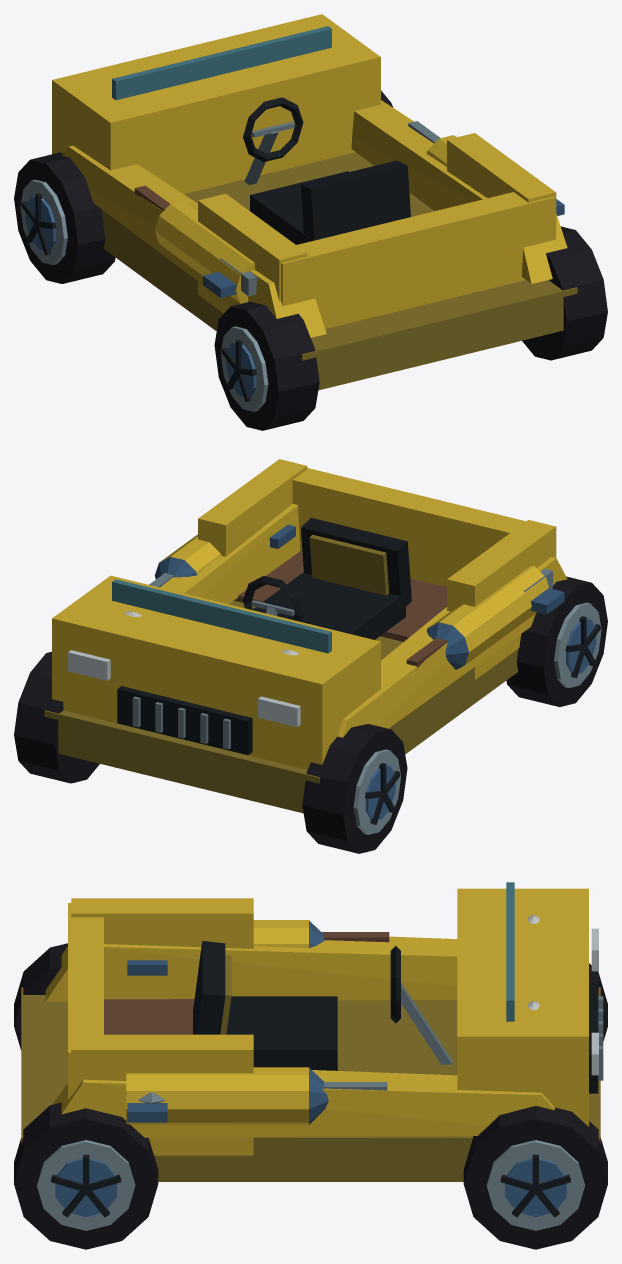
The model's file is kart.glb.
3 renders of one model, top to bottom at view 1: azimuth 30°, elevation 25°; view 2: azimuth 150°, elevation 25°; view 3: azimuth 270°, elevation 25°, orthographic. The views are drawn at different scales.
Visible parts, largest first — view 1: identity-truck-truck-utility-body, identity-truck-driver-cockpit, wheel-rear-left, wheel-front-left, wheel-rear-right, identity-truck-motif-rocket, identity-truck-motif-tools; view 2: identity-truck-truck-utility-body, identity-truck-driver-cockpit, wheel-front-left, wheel-rear-left, identity-truck-motif-rocket, wheel-front-right, identity-truck-motif-tools; view 3: identity-truck-truck-utility-body, wheel-front-right, wheel-rear-right, identity-truck-motif-rocket, identity-truck-driver-cockpit, wheel-rear-left, identity-truck-motif-tools.
Part boxes in pixels (box(x1,y1,x2,y2)): identity-truck-truck-utility-body: box(52, 14, 577, 390); identity-truck-driver-cockpit: box(243, 97, 410, 244); wheel-rear-left: box(214, 301, 319, 430); wheel-front-left: box(14, 152, 115, 283); wheel-rear-right: box(522, 226, 607, 360); identity-truck-motif-rocket: box(154, 135, 564, 303); identity-truck-motif-tools: box(134, 121, 440, 296); identity-truck-truck-utility-body: box(44, 459, 567, 813); identity-truck-driver-cockpit: box(243, 517, 411, 639); wheel-front-left: box(302, 724, 407, 853); wheel-rear-left: box(506, 576, 607, 706); identity-truck-motif-rocket: box(154, 524, 564, 669); wheel-front-right: box(14, 651, 99, 783); identity-truck-motif-tools: box(149, 568, 552, 667); identity-truck-truck-utility-body: box(21, 882, 603, 1181); wheel-front-right: box(463, 1106, 607, 1249); wheel-rear-right: box(14, 1102, 158, 1249); identity-truck-motif-rocket: box(126, 920, 328, 1125); identity-truck-driver-cockpit: box(193, 941, 452, 1070); wheel-rear-left: box(14, 943, 67, 1050); identity-truck-motif-tools: box(125, 932, 389, 1103).
Size of the model in its own units: 2.13 by 1.13 by 2.8.
